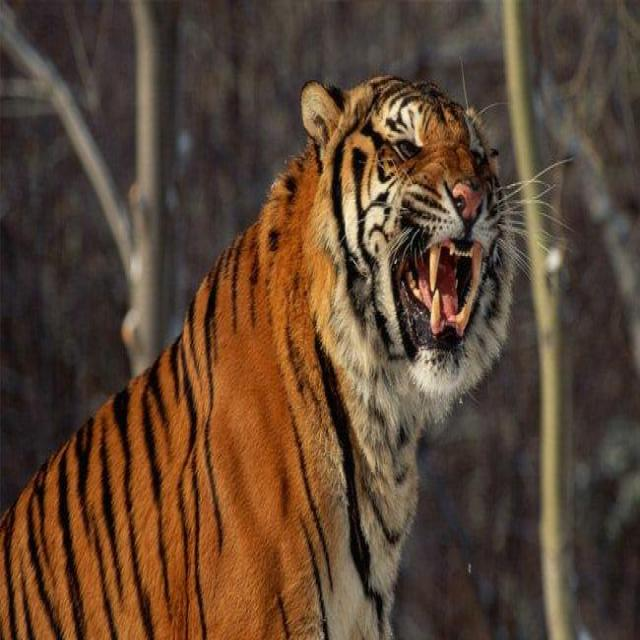Tiger: (18, 81, 528, 640)
